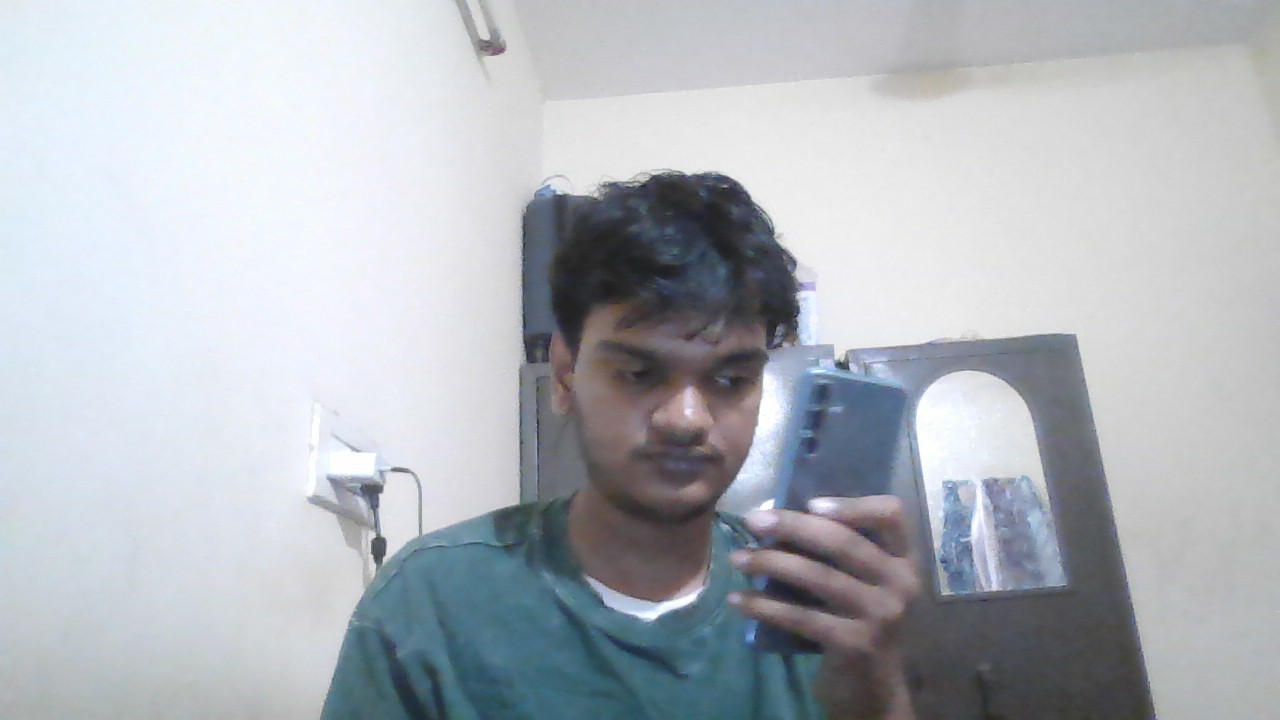phone: (782, 367, 910, 487)
